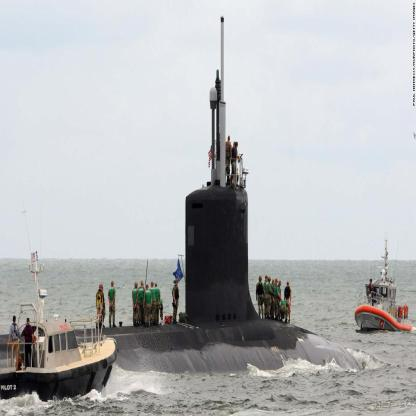Patrol Boat: (0, 264, 119, 403)
Submarine: (0, 17, 362, 374)
Tugboat: (354, 239, 412, 333)
